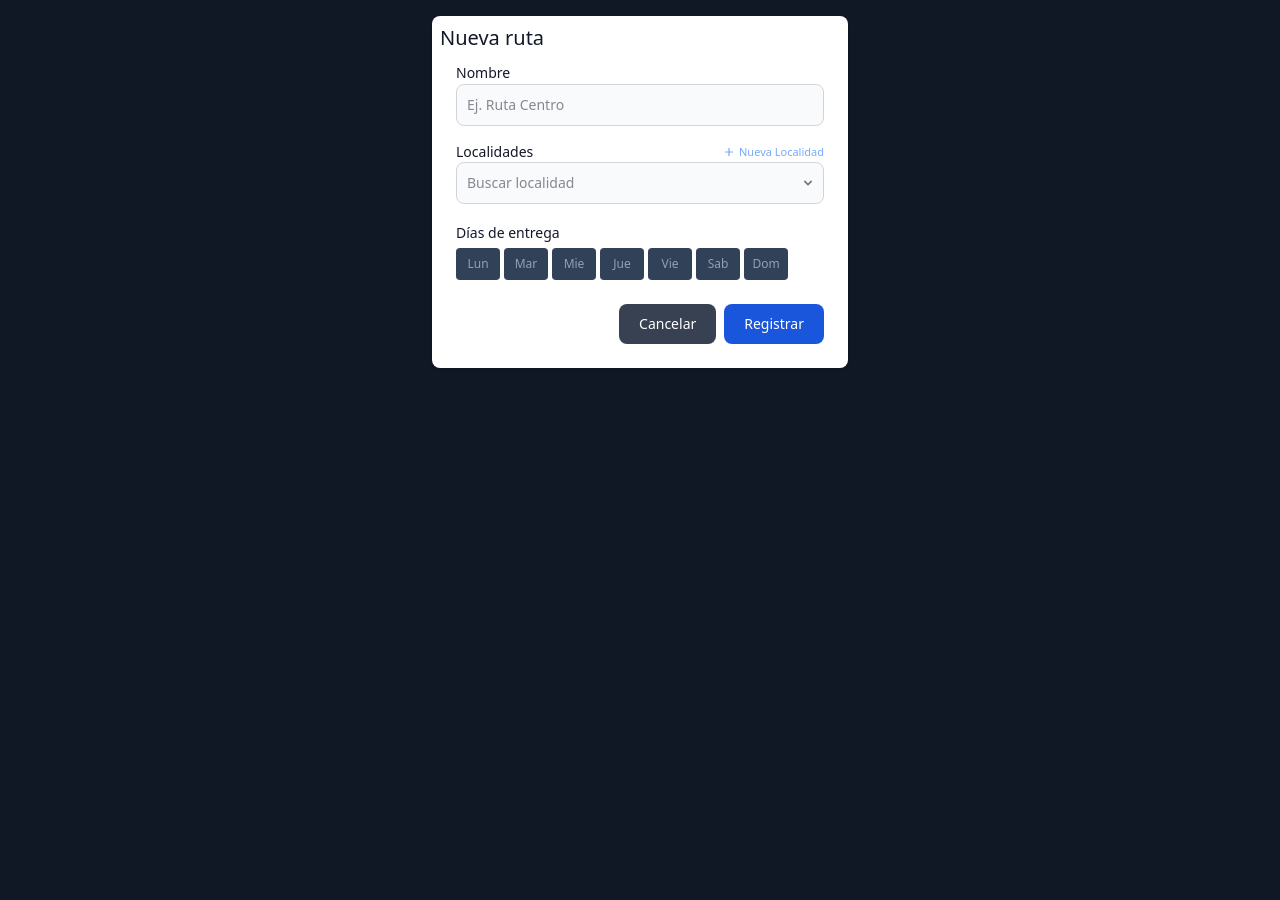
it: RouteFormModal › valida el nombre obligatorio
Click the button "Registrar" at (774, 324), box [724, 304, 824, 344]
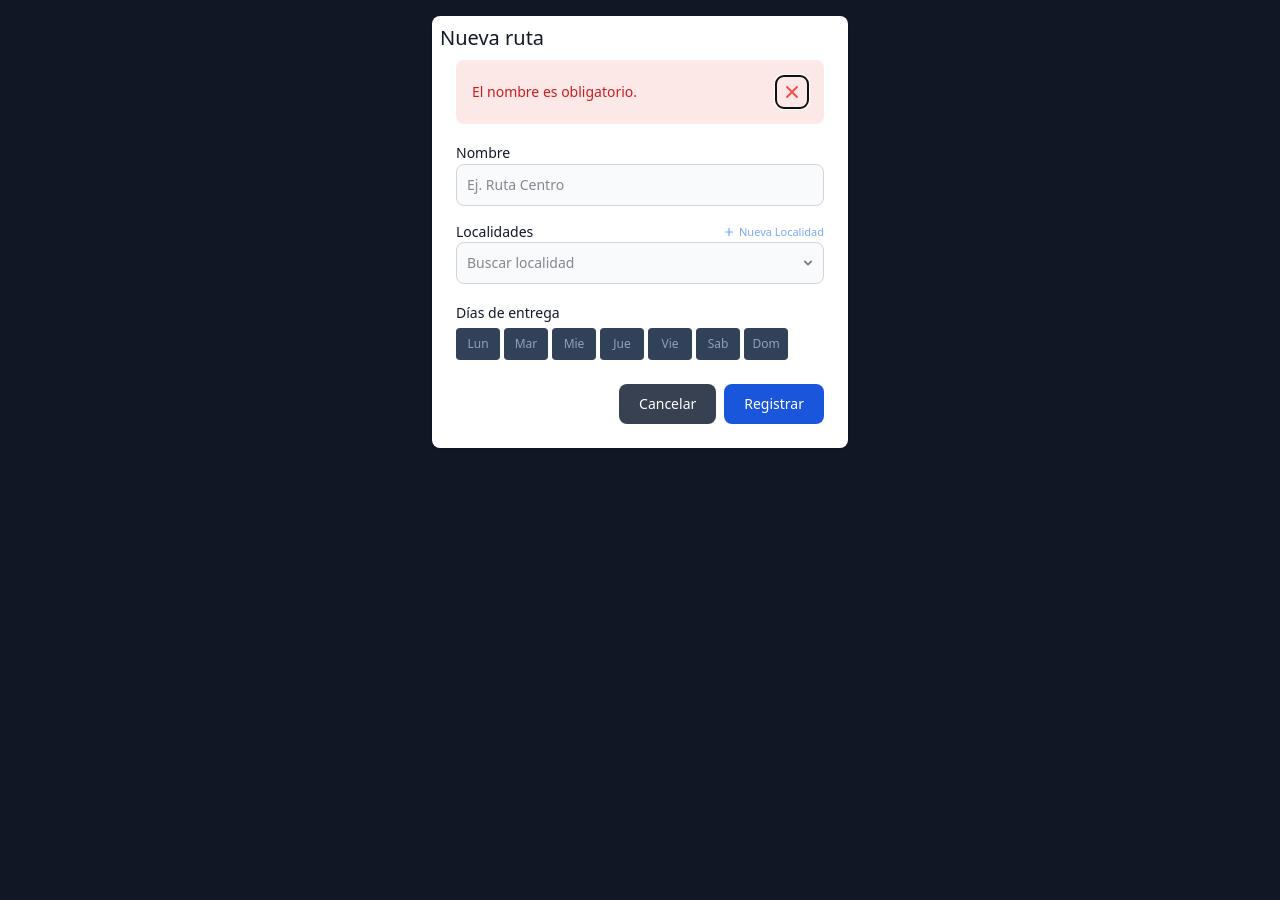
Expected: the text "El nombre es obligatorio." is shown, [472, 82, 637, 102]
